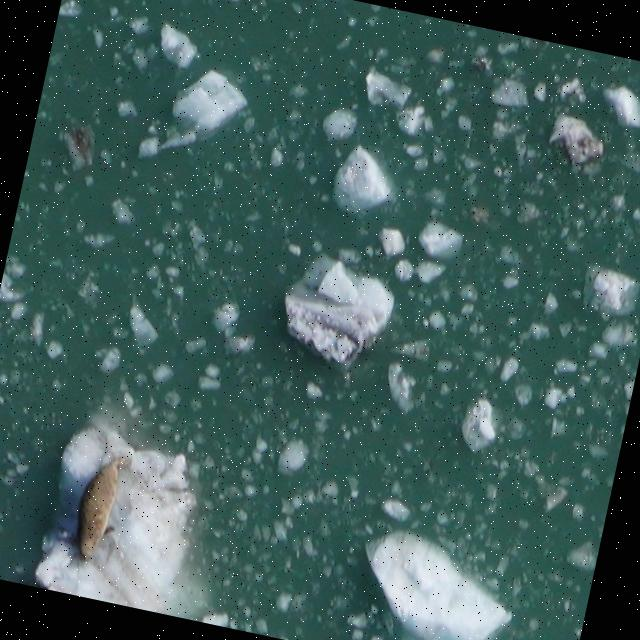seal: (62, 446, 133, 571)
